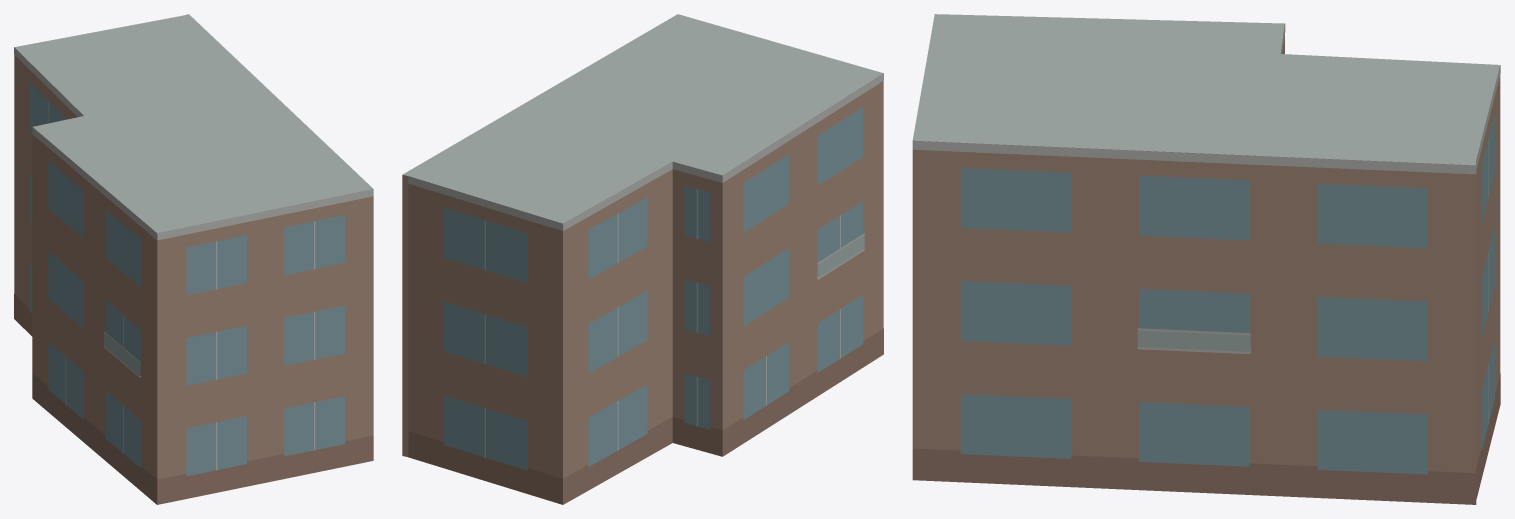
The model's file is survey-upis-32485517.glb.
The picture shows the model from 3 angles, left to right: view 1: azimuth 30°, elevation 25°; view 2: azimuth 150°, elevation 25°; view 3: azimuth 270°, elevation 25°; orthographic projection. The views are drawn at different scales.
Visible parts, largest first — view 1: survey-upis-32485517.tmp; view 2: survey-upis-32485517.tmp; view 3: survey-upis-32485517.tmp.
Boxes of the visible parts, x1,y1,x2,y2 form: survey-upis-32485517.tmp: [14, 14, 373, 504]; survey-upis-32485517.tmp: [402, 14, 883, 504]; survey-upis-32485517.tmp: [912, 14, 1500, 504].
Bounding box in the file's own units: 8.76 × 9.15 × 14.37.
